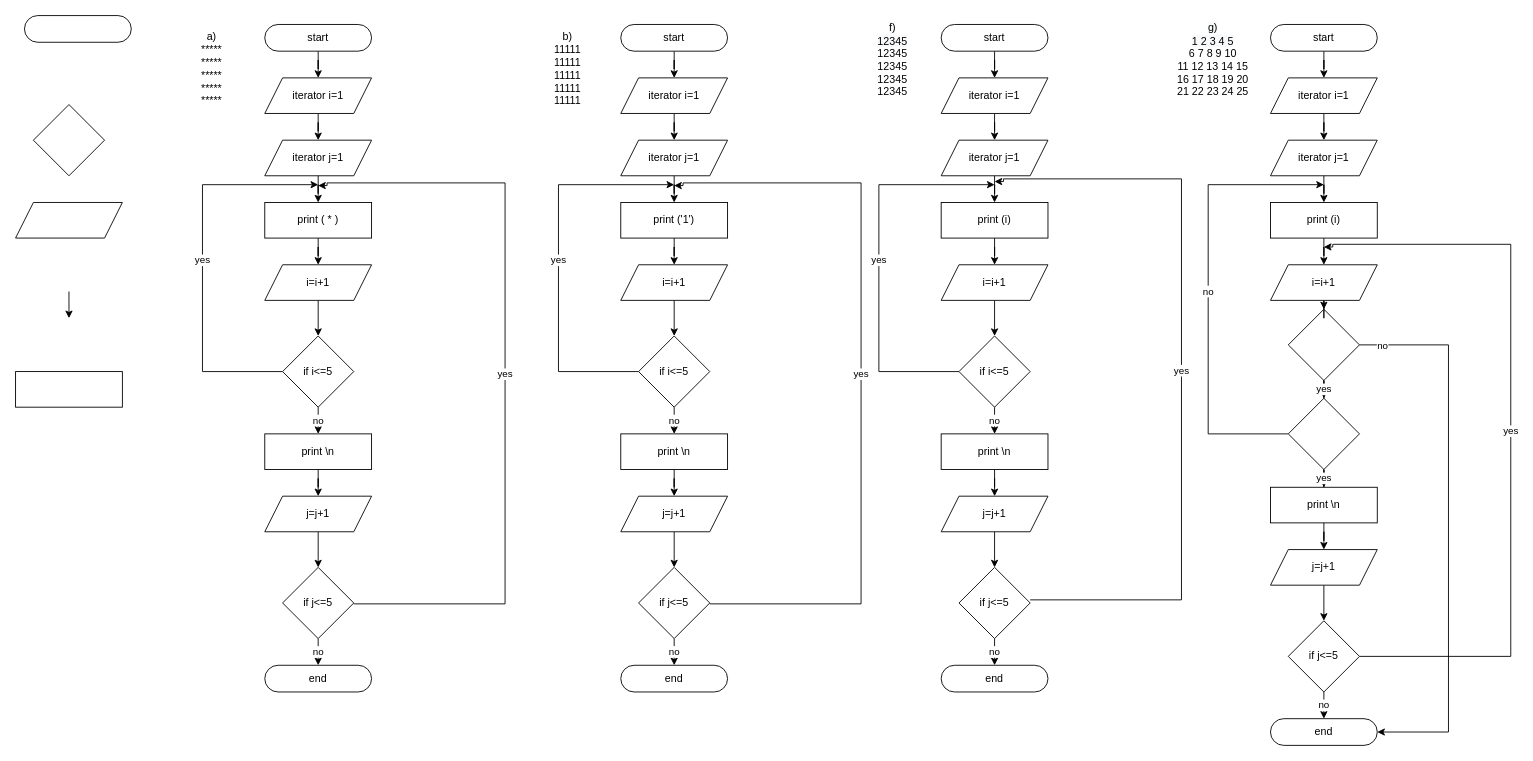
This 1533x761 diagram has some shape labels left out. Each missing label, with the box of its shape:
if i%5 ==0: (1287, 397, 1359, 469)
if i<=25: (1287, 308, 1359, 380)
